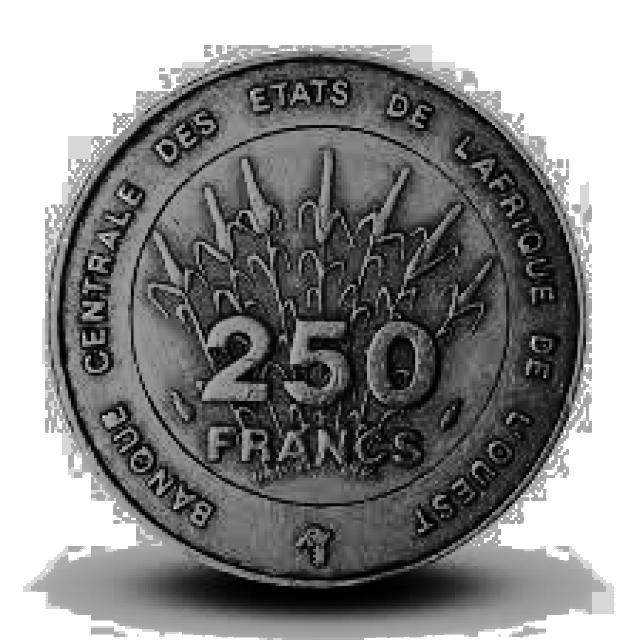juroom fukk: (51, 55, 584, 588)
